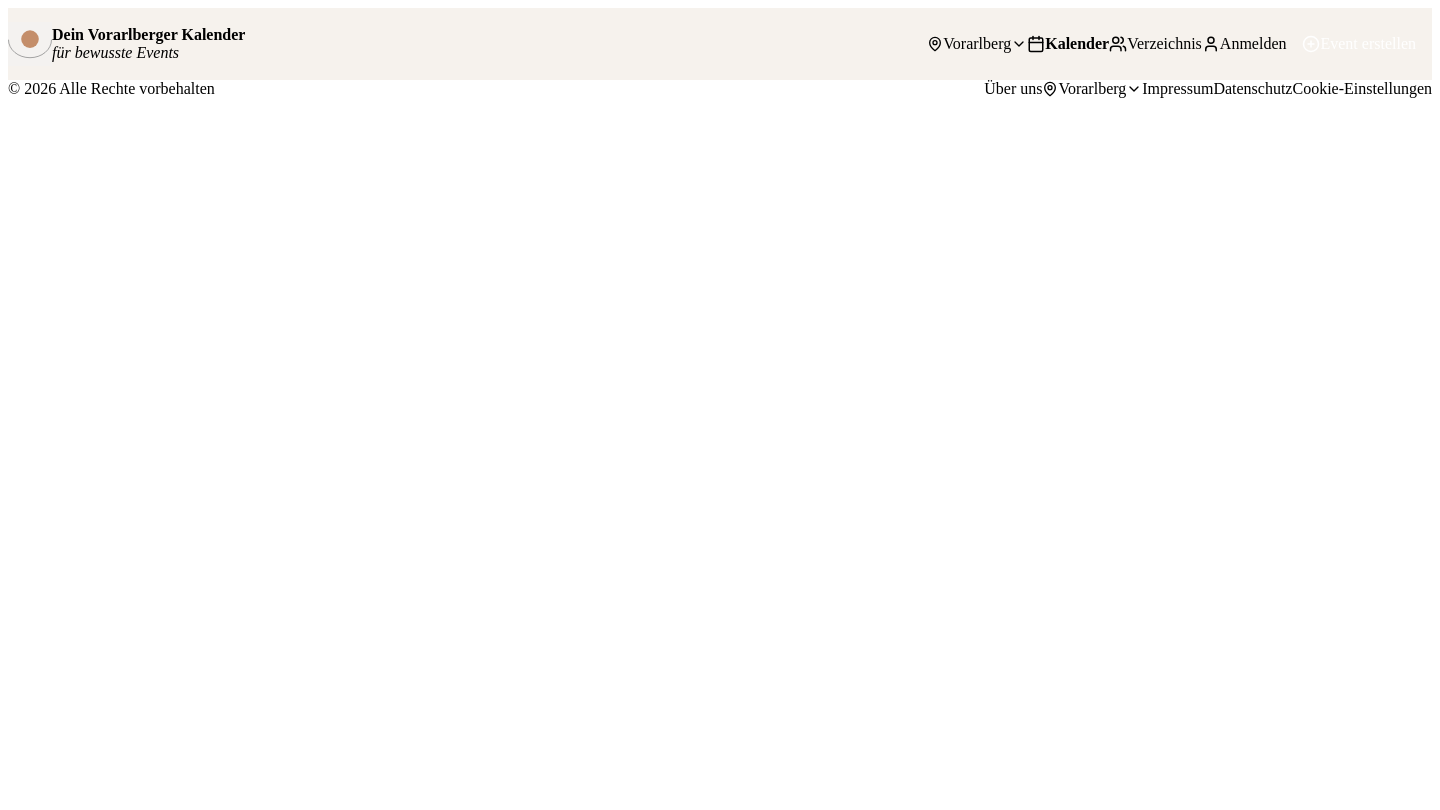
where the region can be chosen › visitors without an account choose in the header and in the footer
Expected: the element with test id "region-switcher" is shown, 927,22 -> 1027,66
Step 1. Click the button with test id "footer-region-pick" → (1092, 89), box 1042,80 -> 1142,98
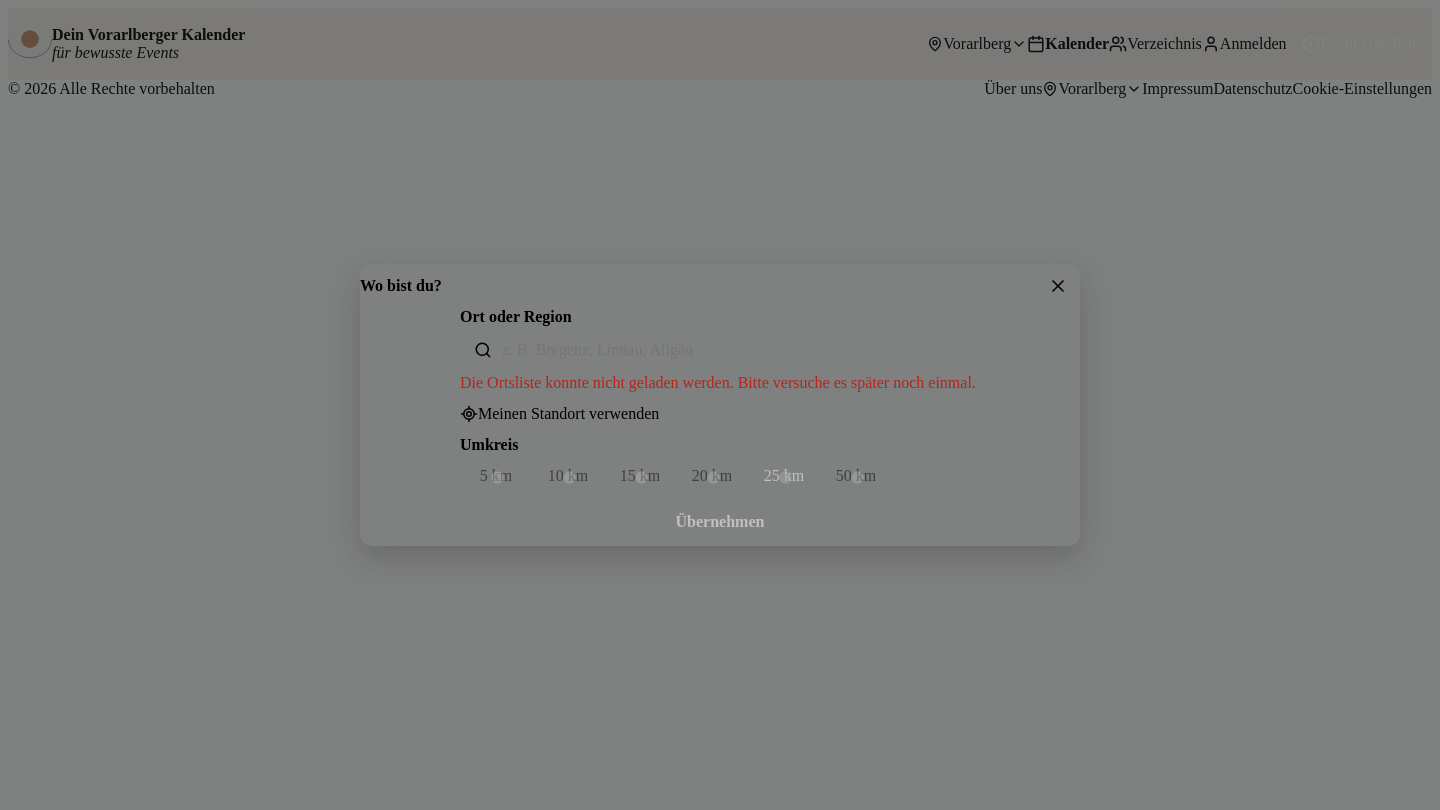
Now the dropdown is shown, box 460,326 -> 980,374
